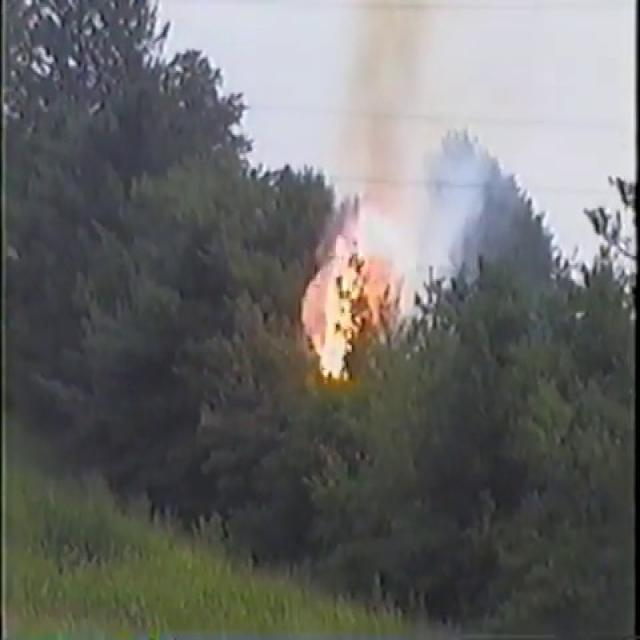Smoke: (304, 0, 494, 349)
